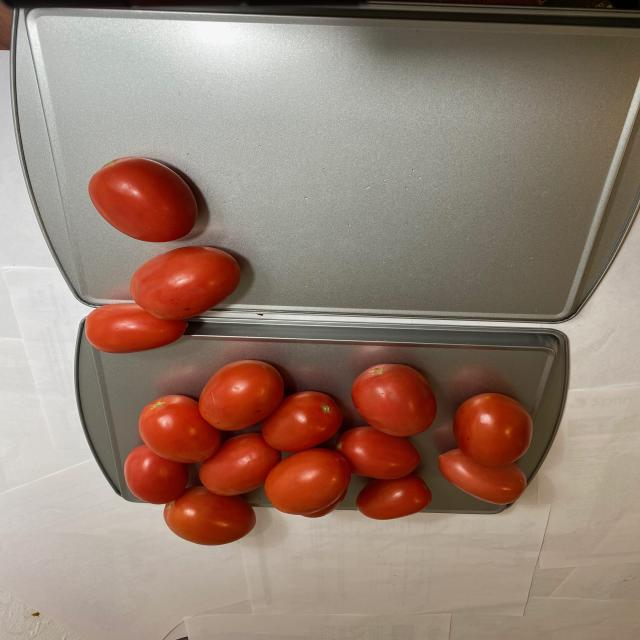tomato: (117, 356, 541, 546), (81, 146, 242, 353)
